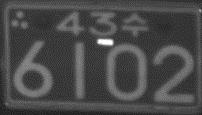0: (105, 42, 147, 101)
1: (63, 41, 98, 99)
2: (153, 43, 195, 104)
3: (88, 10, 117, 35)
4: (56, 10, 85, 35)
6: (13, 39, 53, 98)
수: (121, 11, 147, 37)
